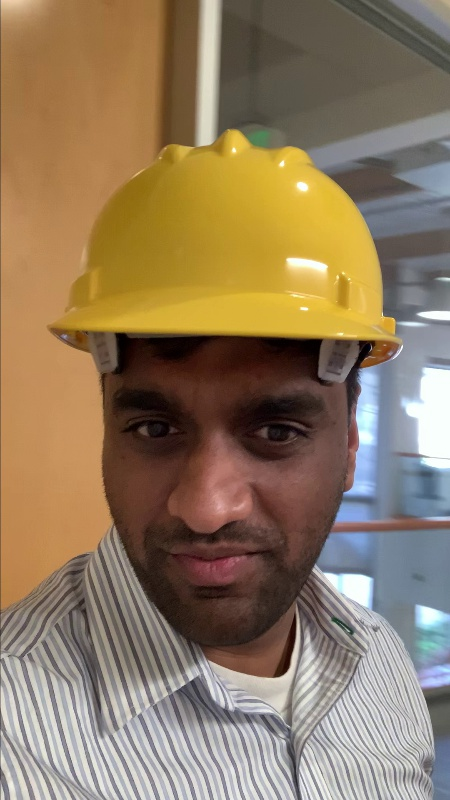helmet: (44, 129, 409, 385)
